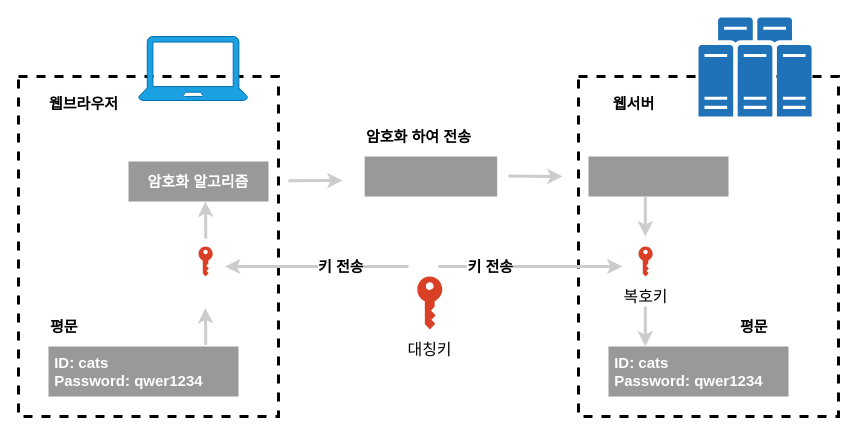
This 857x435 diagram has some shape labels left out. Each missing label, with the centre of its shape:
"Asdfgh4kqWp..." goes at [430,176].
"복호화 알고리즘" goes at [658,176].
"암호키" goes at [205,261].
